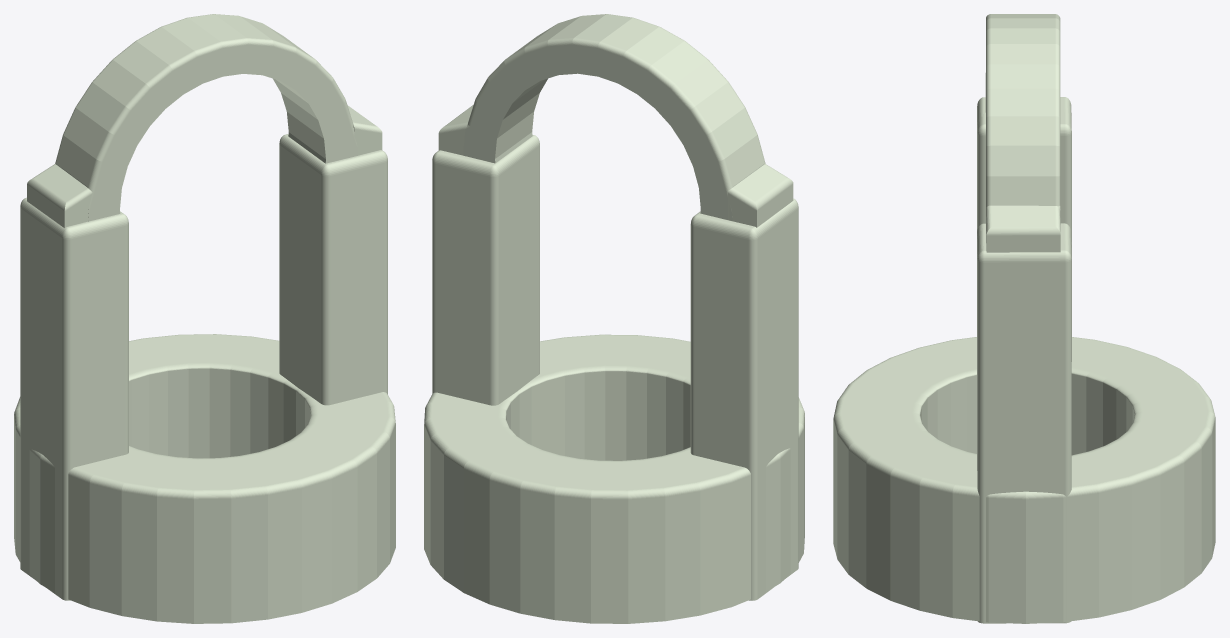
Rendered from poco.glb.
3 renders of one model, left to right at view 1: azimuth 30°, elevation 25°; view 2: azimuth 150°, elevation 25°; view 3: azimuth 270°, elevation 25°, orthographic.
Parts seen in each view (by area): view 1: Cylinder, Cube.001, Cylinder.002; view 2: Cylinder, Cube.001, Cylinder.002; view 3: Cylinder, Cube.001, Cylinder.002.
Boxes of the visible parts, x1,y1,x2,y2 form: Cylinder: [14, 334, 395, 623]; Cube.001: [20, 134, 387, 600]; Cylinder.002: [27, 14, 382, 228]; Cylinder: [424, 334, 804, 623]; Cube.001: [432, 134, 798, 600]; Cylinder.002: [438, 14, 793, 227]; Cylinder: [833, 337, 1215, 623]; Cube.001: [977, 97, 1071, 623]; Cylinder.002: [985, 14, 1060, 252].
Size of the model in its own units: 6.1 by 9.07 by 6.1.
